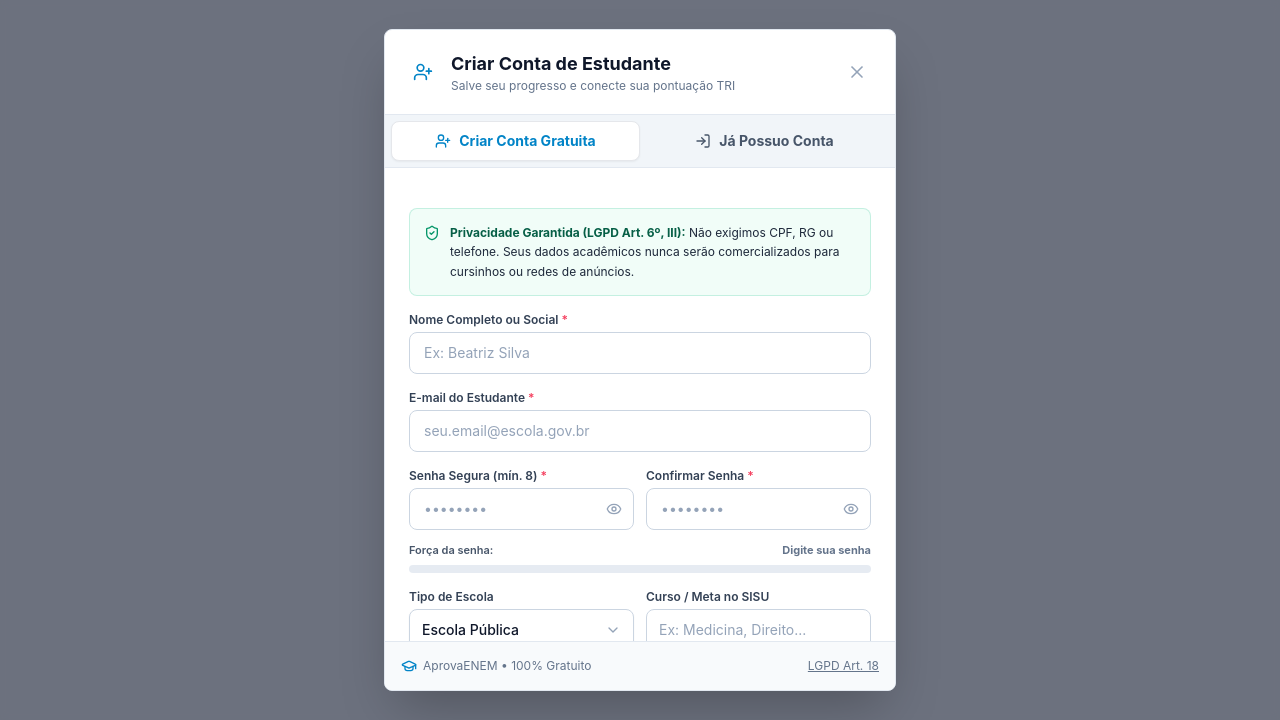
Test case: RegisterModal Component › should switch between Register and Login modes
expect the heading "Criar Conta de Estudante" is shown: met, box [451,53,671,74]
# Switch to Login mode
Click the button "Já Possuo Conta" at (764, 141), box [640,121,889,161]
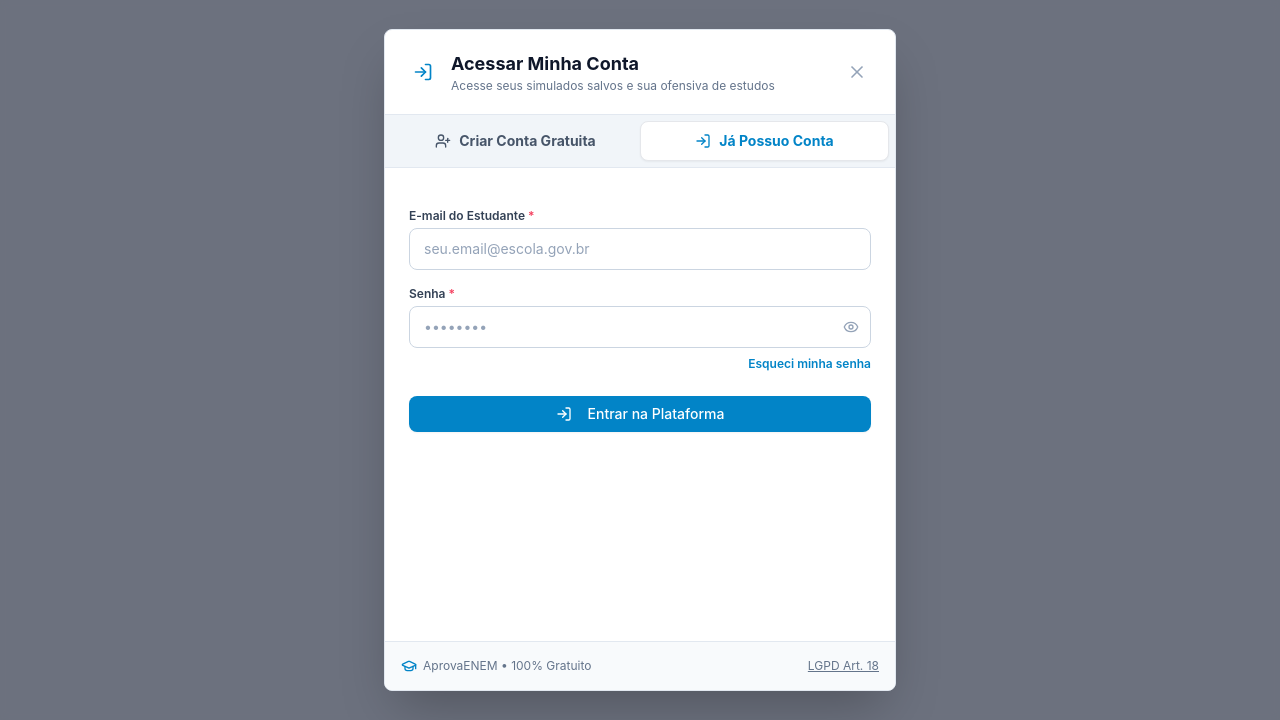
expect the heading "Acessar Minha Conta" is shown: met, box [451,53,639,74]
expect the button "Entrar na Plataforma" is shown: met, box [409,396,871,432]
# Switch back to Register mode
Click the button "Criar Conta Gratuita" at (516, 141), box [391,121,640,161]
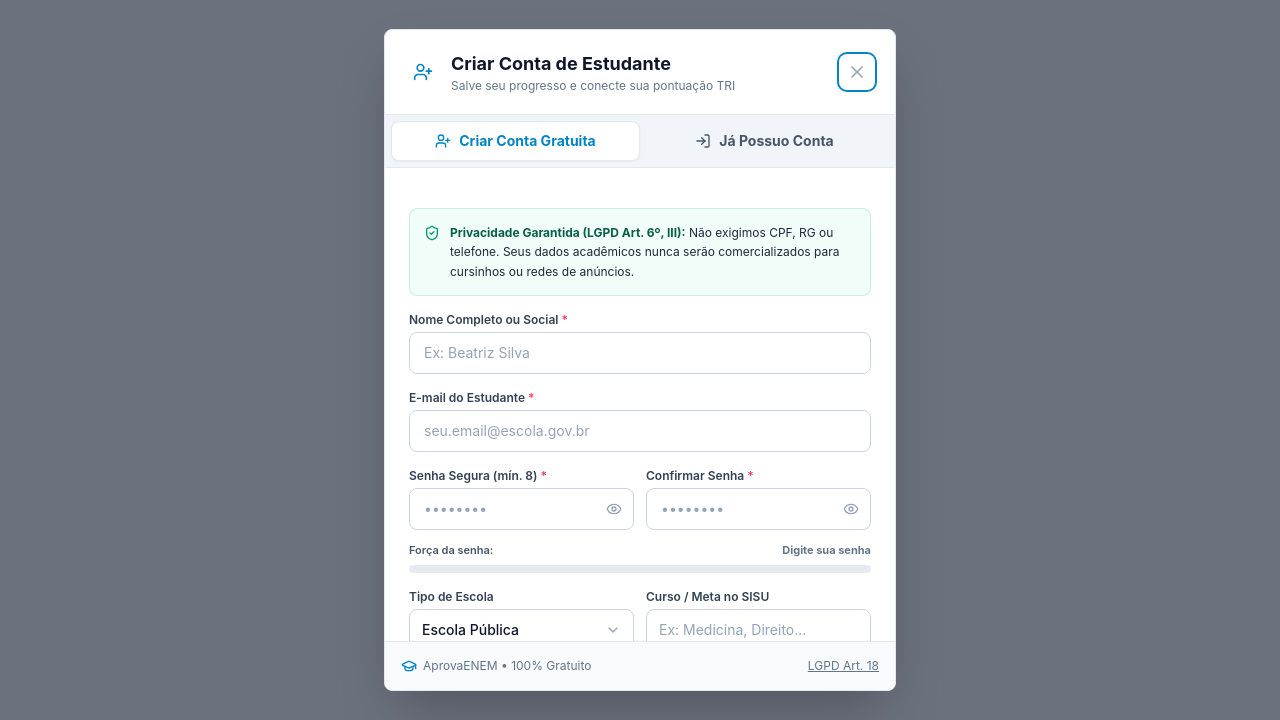
expect the heading "Criar Conta de Estudante" is shown: met, box [451,53,671,74]
